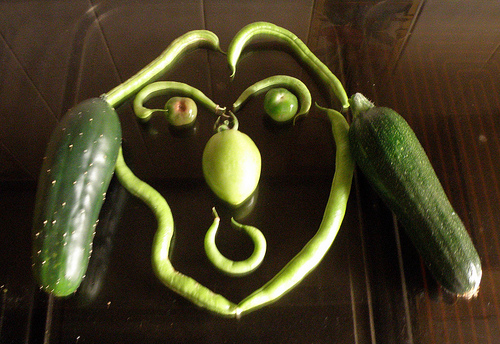cucumber: (27, 27, 229, 300), (347, 90, 485, 300)
